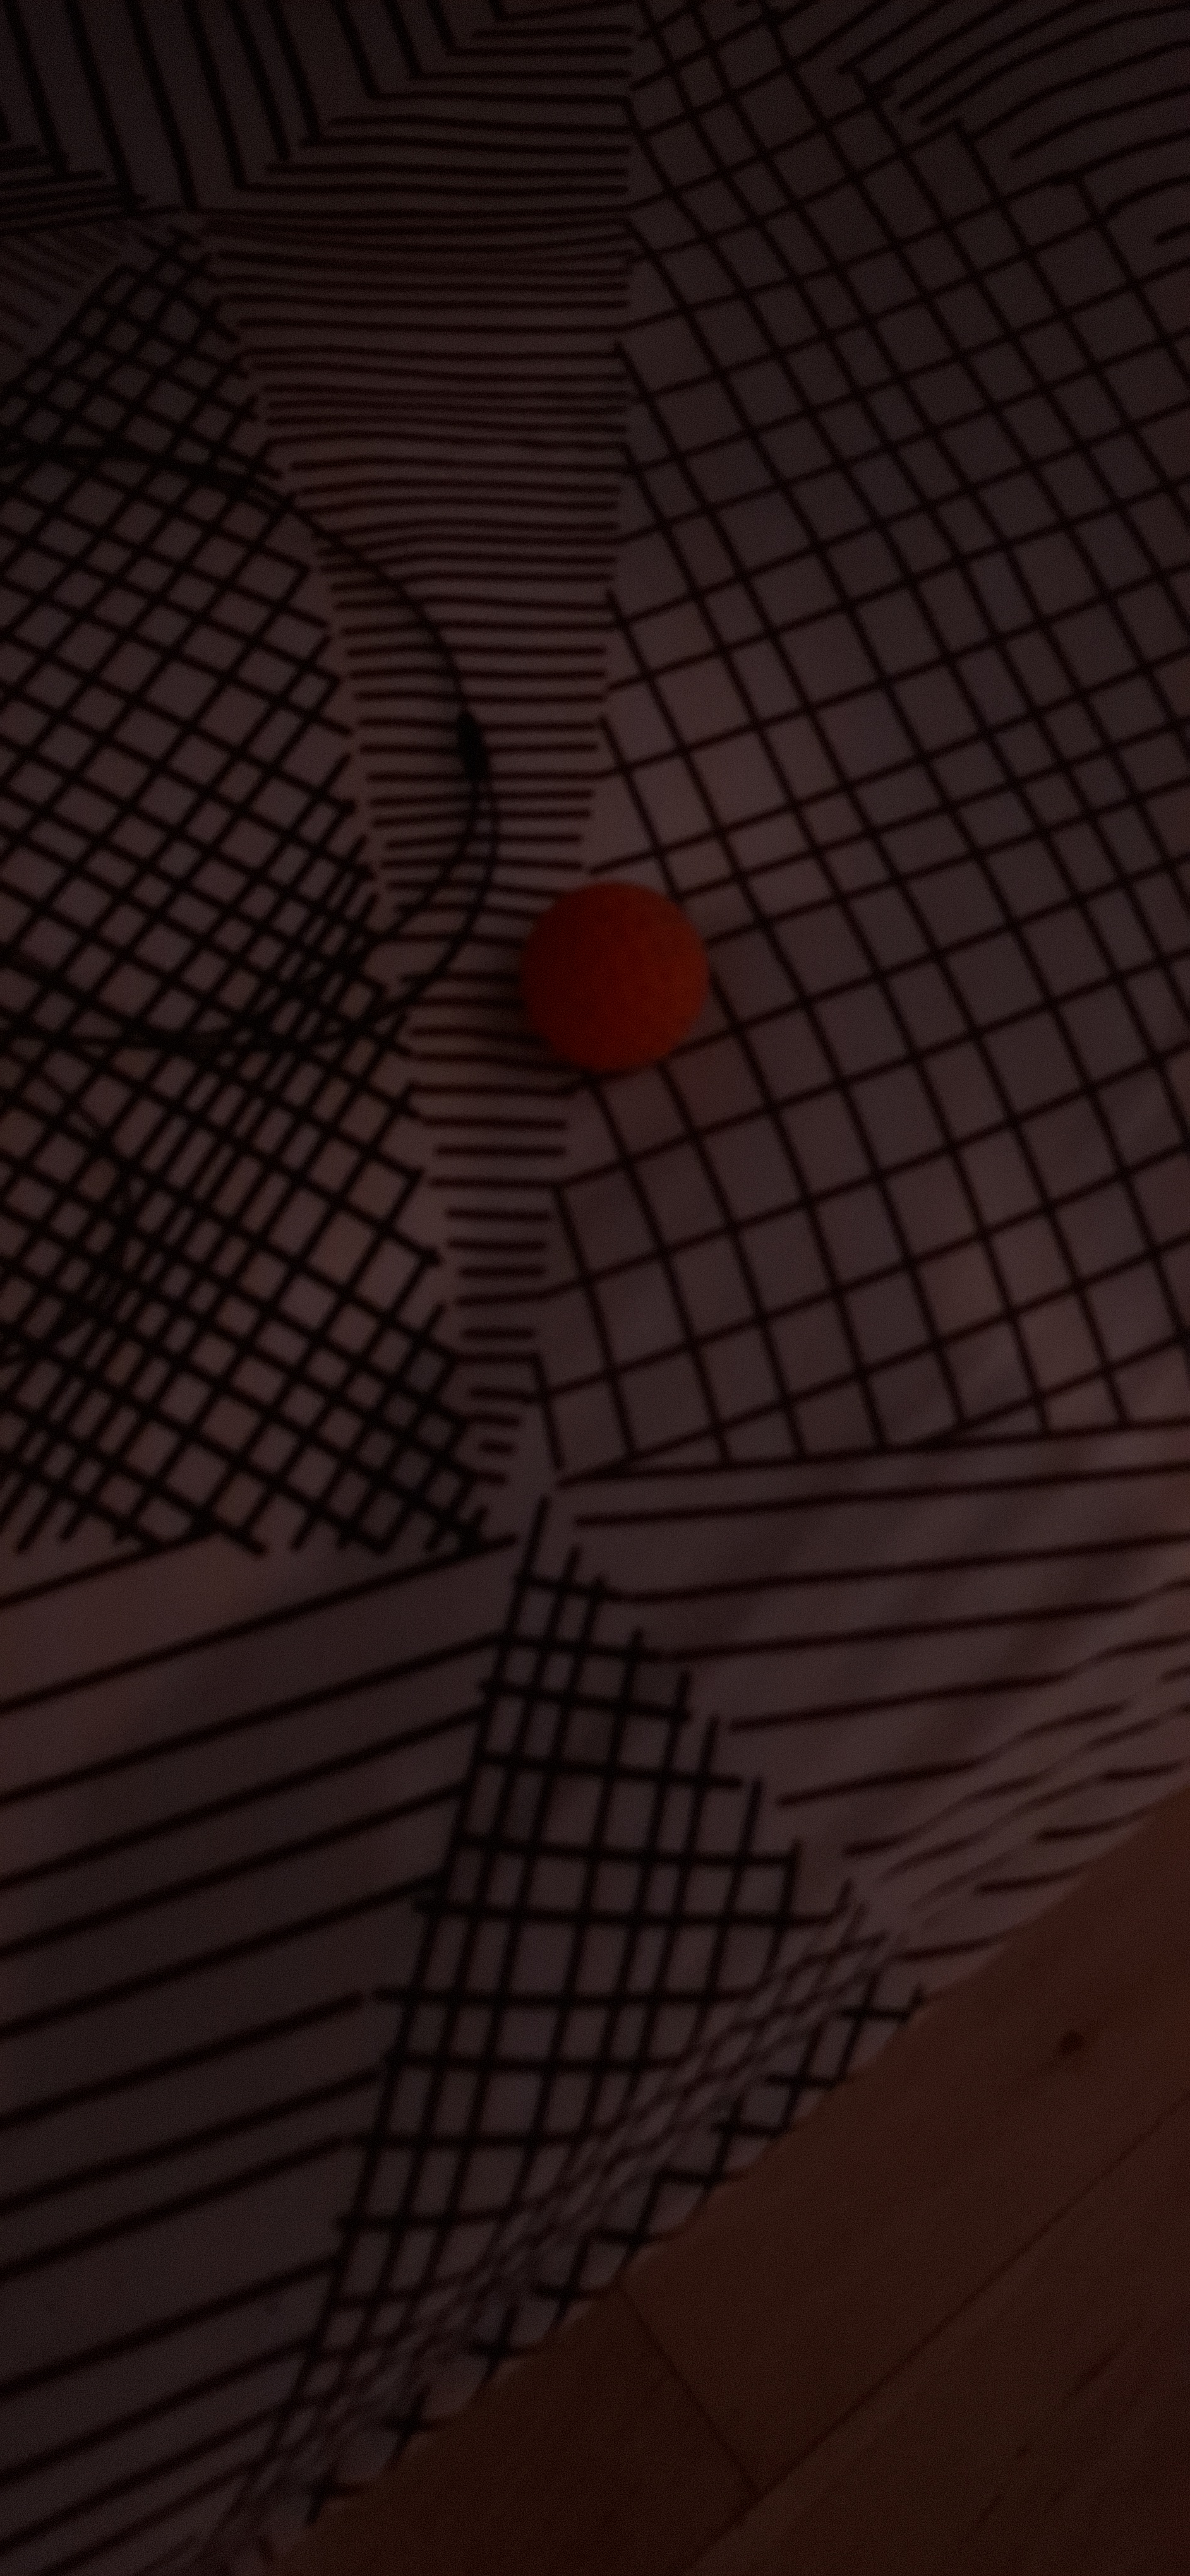ball: (408, 1056, 495, 1442)
